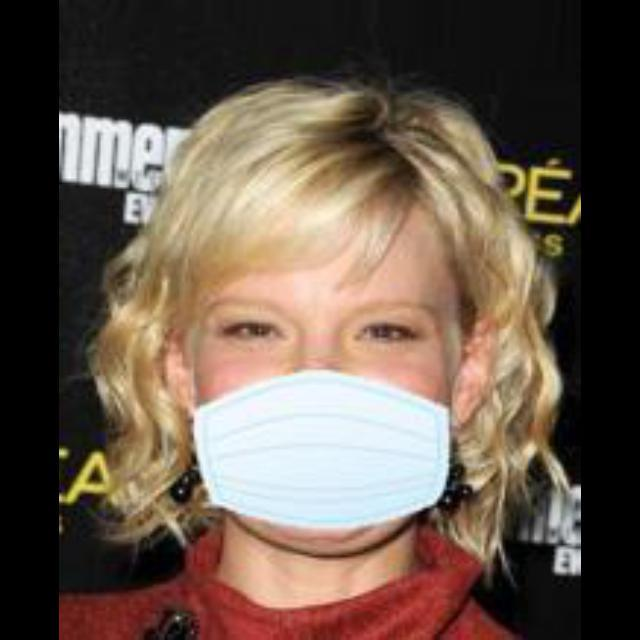suspicion: (176, 161, 474, 557)
